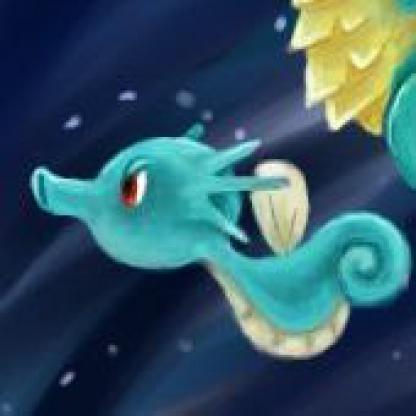Horsea: (21, 116, 415, 358)
